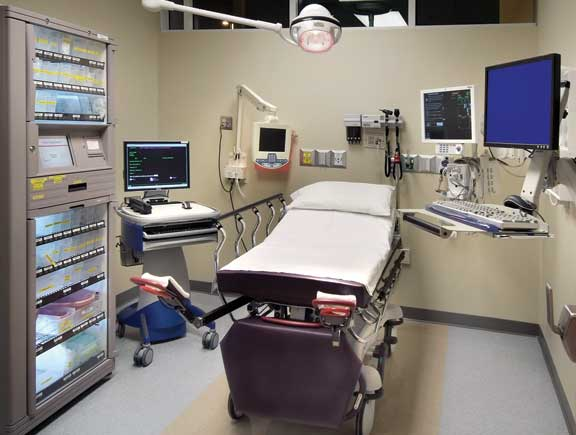bedrail: (215, 193, 288, 271), (348, 249, 406, 344)
bedside_monitor: (420, 86, 476, 144), (254, 122, 293, 160)
cabinet: (3, 25, 121, 426)
computer: (484, 54, 559, 149), (124, 142, 190, 192)
hospital_bed: (218, 181, 403, 435)
keyboard: (425, 199, 541, 231), (142, 220, 218, 240)
mouse: (503, 193, 536, 210), (181, 200, 192, 210)
